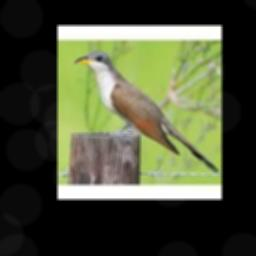Cuckoo: (74, 50, 218, 172)
